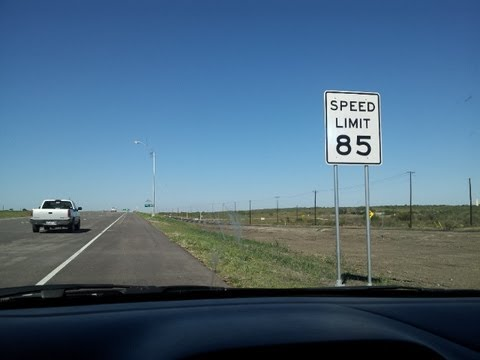speed limit: (307, 69, 392, 191)
